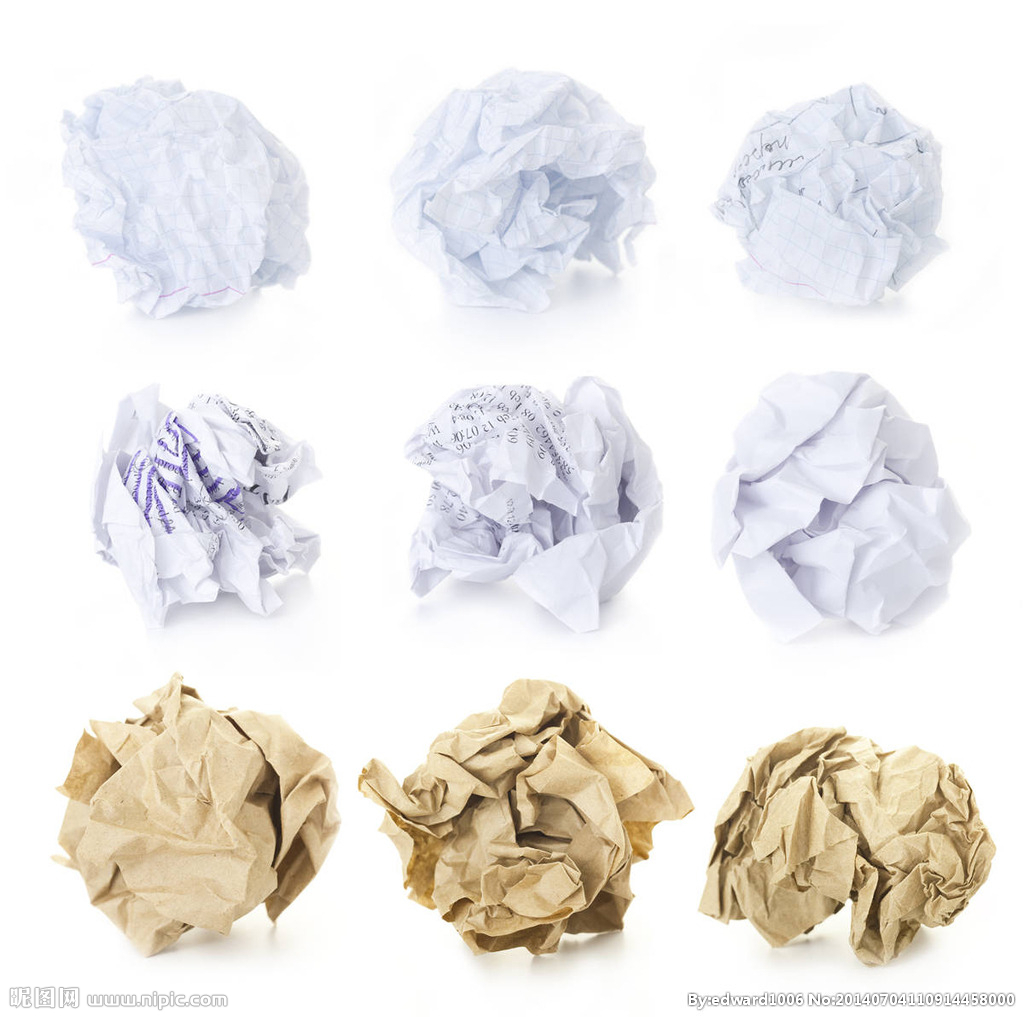flexible: (351, 670, 693, 967), (44, 665, 352, 957), (701, 355, 978, 645), (56, 369, 347, 635), (390, 370, 679, 636), (691, 716, 1000, 960), (391, 60, 674, 316), (54, 72, 322, 331), (703, 70, 962, 326)
